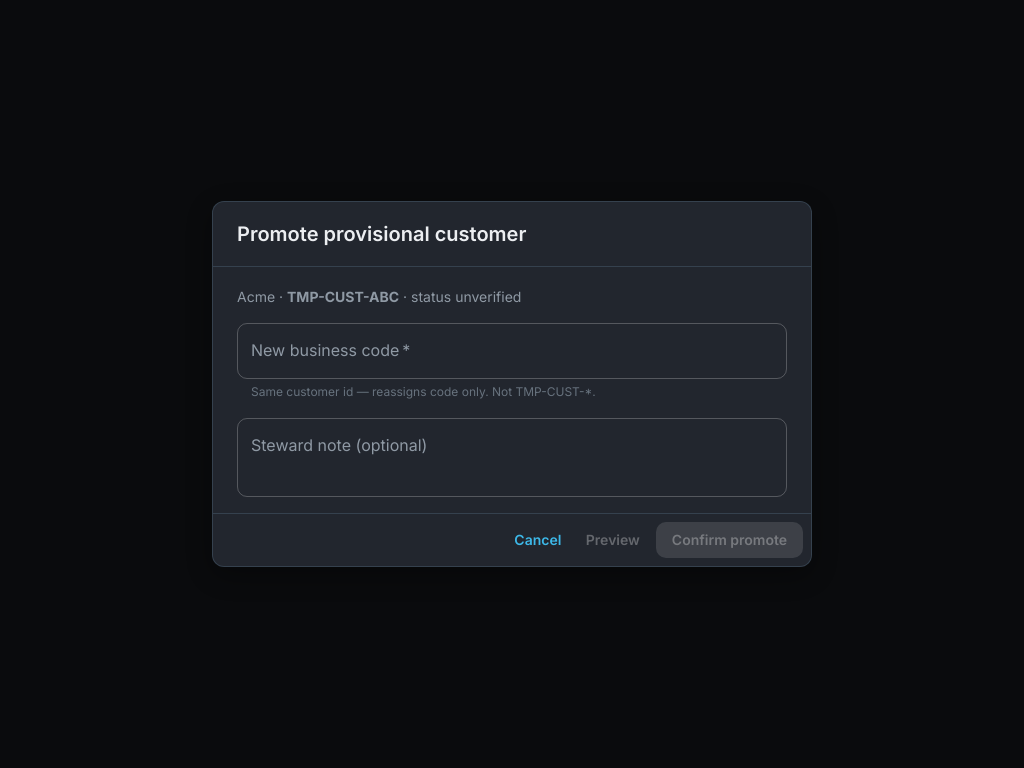
Scenario: CustomerPromoteDialog › surfaces API error message
Type "ACME-001" into the field with test id "promote-new-code".
click(512, 351); type("ACME-001")  # box x1=237 y1=323 x2=787 y2=379
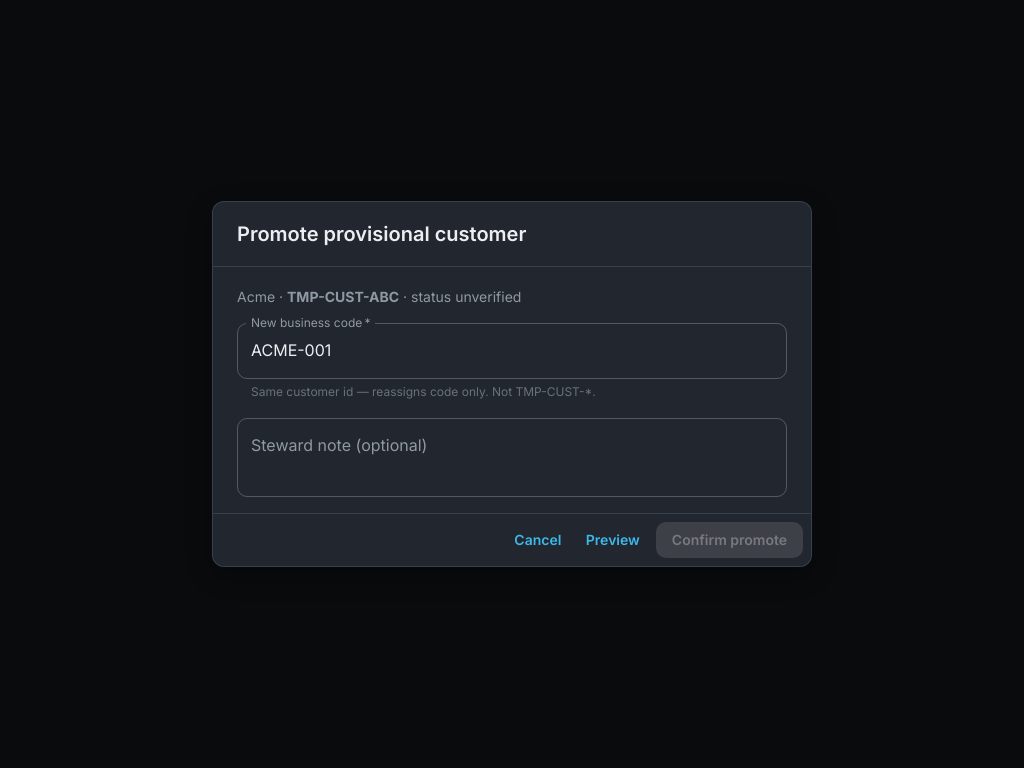
Click the button with test id "promote-preview-btn".
click(613, 540)  # box x1=578 y1=522 x2=648 y2=558
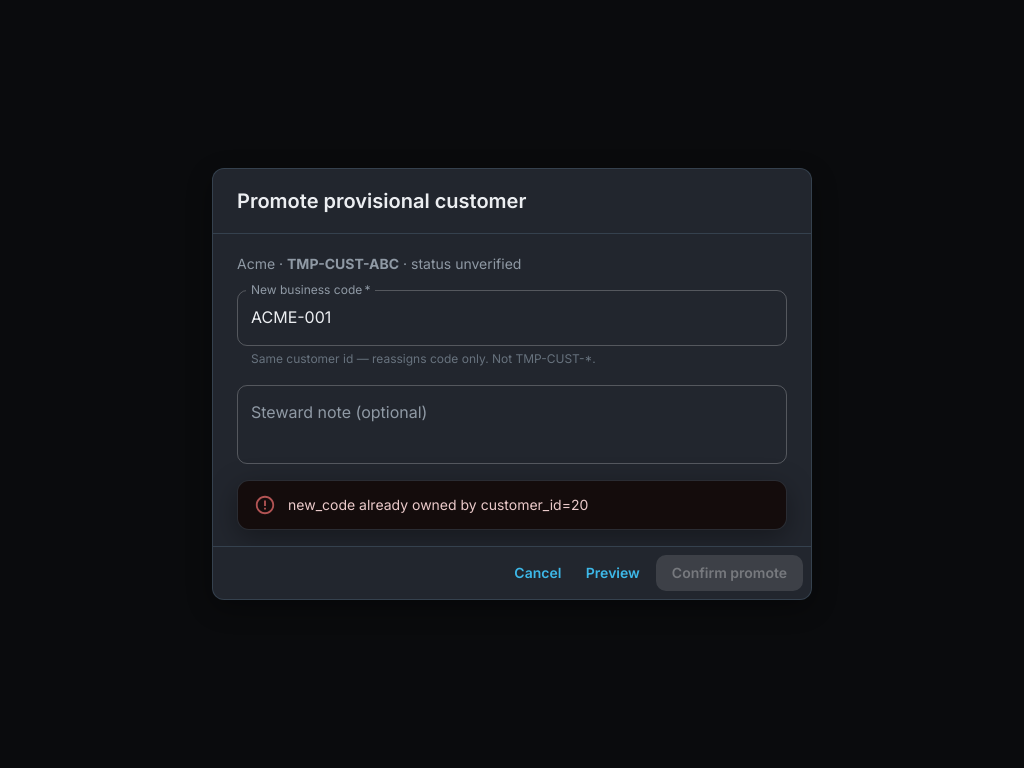
Expected: the message "new_code already owned by customer_id=20" is shown, x1=237 y1=480 x2=787 y2=530
Expected: the message with test id "promote-error" shows "already owned", x1=288 y1=496 x2=588 y2=513
